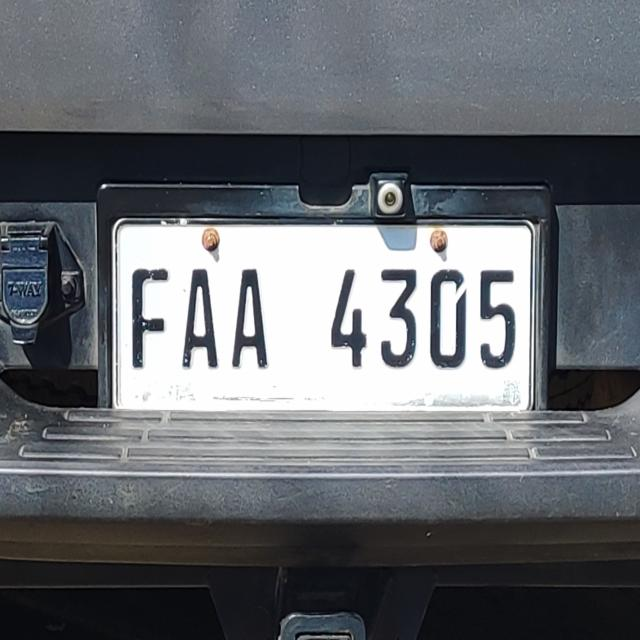plate: (103, 211, 546, 426)
